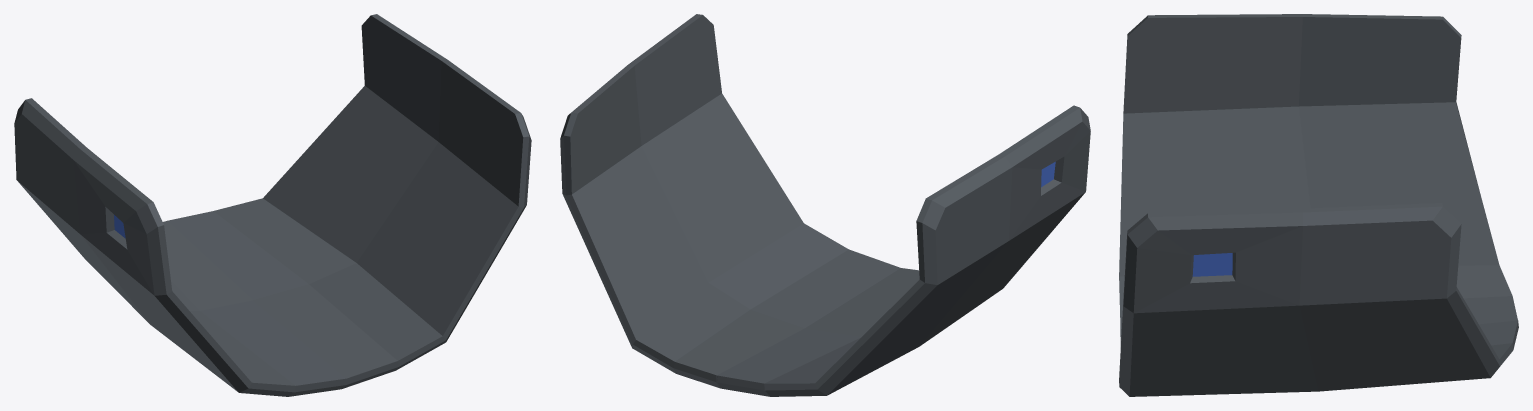
The model's file is Fighter_06_Rear_Bottom_Frame_Blue.fbx.
3 renders of one model, left to right at view 1: azimuth 30°, elevation 25°; view 2: azimuth 150°, elevation 25°; view 3: azimuth 270°, elevation 25°, orthographic. The views are drawn at different scales.
Visible parts, largest first — view 1: Fighter_06_Rear_Bottom_Frame_Blue; view 2: Fighter_06_Rear_Bottom_Frame_Blue; view 3: Fighter_06_Rear_Bottom_Frame_Blue.
Boxes of the visible parts, left/top/right/bottom form: Fighter_06_Rear_Bottom_Frame_Blue: left=14, top=14, right=531, bottom=396; Fighter_06_Rear_Bottom_Frame_Blue: left=560, top=14, right=1090, bottom=396; Fighter_06_Rear_Bottom_Frame_Blue: left=1119, top=14, right=1518, bottom=396.
Size of the model in its own units: 303 by 172 by 245.
Materials: 1 (1 with a texture image).
